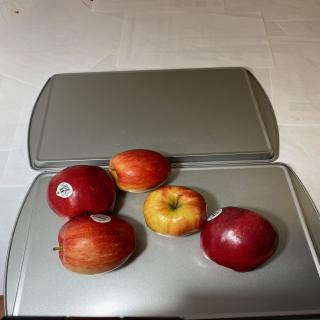Apple: (200, 206, 279, 273), (53, 214, 136, 275), (46, 164, 116, 220), (142, 185, 208, 238), (108, 149, 172, 193)
